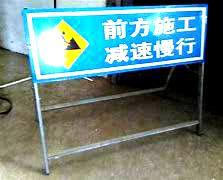sign: (28, 9, 204, 73)
